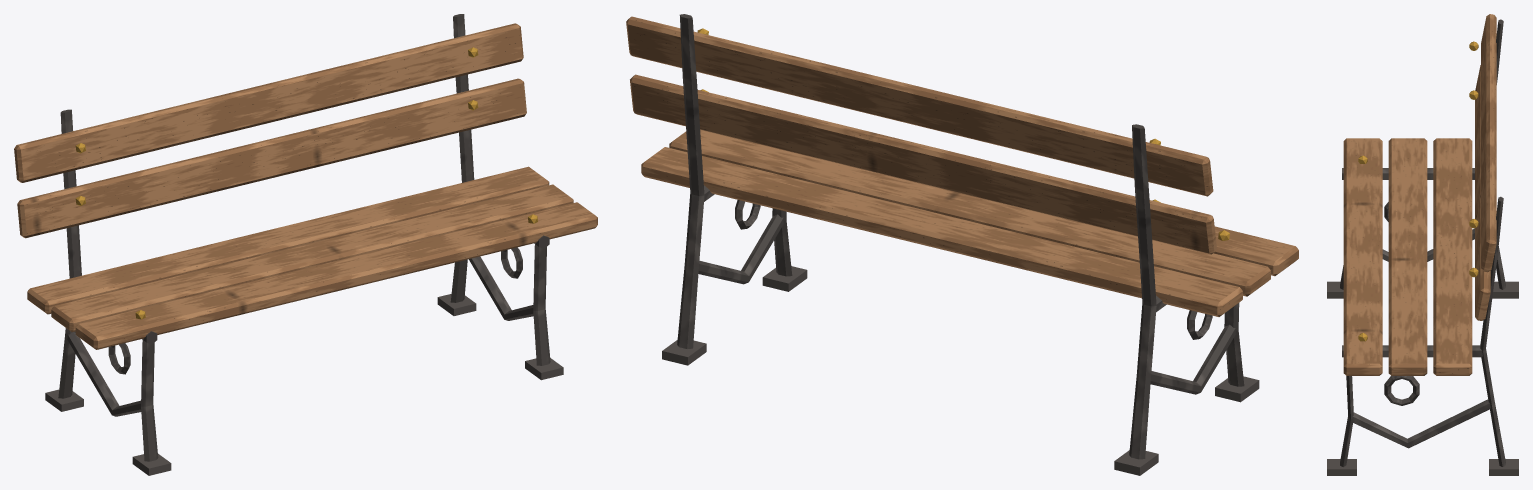
File: village_bench.glb
3 views of the same model, side by side, from view 1: azimuth 30°, elevation 25°; view 2: azimuth 150°, elevation 25°; view 3: azimuth 270°, elevation 25° (orthographic). The views are drawn at different scales.
Parts seen in each view (by area): view 1: village_bench_back_slats, village_bench_seat_slats, village_bench_metal_legs; view 2: village_bench_back_slats, village_bench_seat_slats, village_bench_metal_legs; view 3: village_bench_seat_slats, village_bench_metal_legs, village_bench_back_slats.
Part boxes in pixels (bbox=[...]): village_bench_back_slats: bbox=[14, 23, 526, 238]; village_bench_seat_slats: bbox=[27, 166, 597, 349]; village_bench_metal_legs: bbox=[45, 14, 563, 475]; village_bench_back_slats: bbox=[626, 16, 1216, 254]; village_bench_seat_slats: bbox=[641, 130, 1298, 316]; village_bench_metal_legs: bbox=[662, 14, 1259, 475]; village_bench_seat_slats: bbox=[1343, 138, 1472, 375]; village_bench_metal_legs: bbox=[1327, 19, 1518, 475]; village_bench_back_slats: bbox=[1475, 14, 1496, 320].
Size of what is drawn, in the model's own units: 1.8 by 1 by 0.64.
3 materials, 3 textured.
